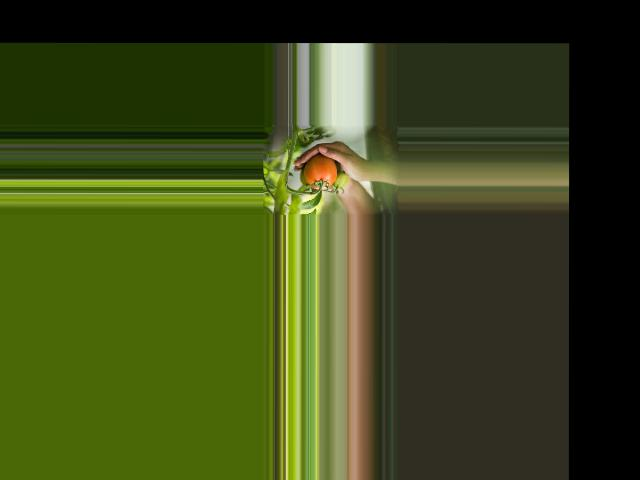tomato: (305, 155, 337, 188)
